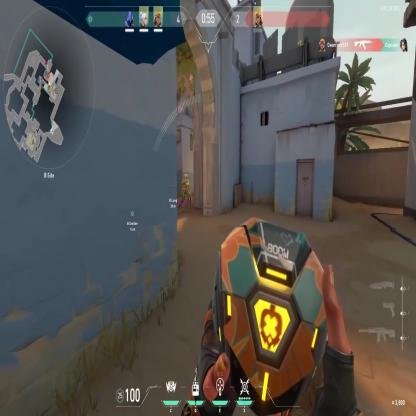enemy: (178, 172, 191, 216)
enemy_head: (184, 174, 188, 181)
